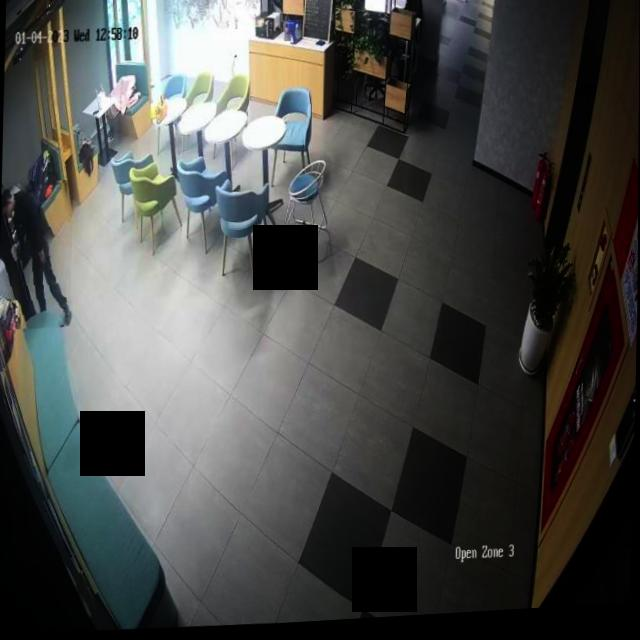person: (0, 179, 73, 330)
